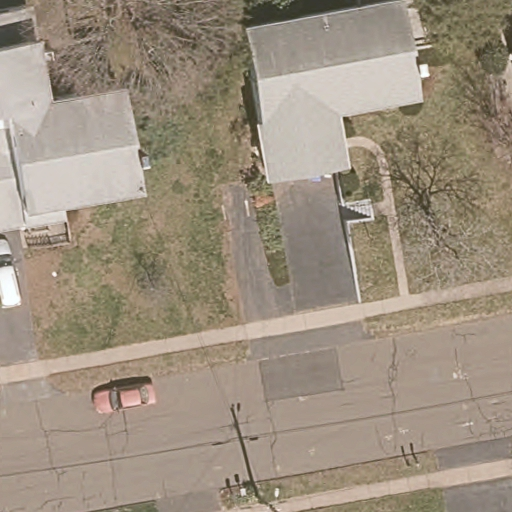DT: (239, 484, 280, 512)
